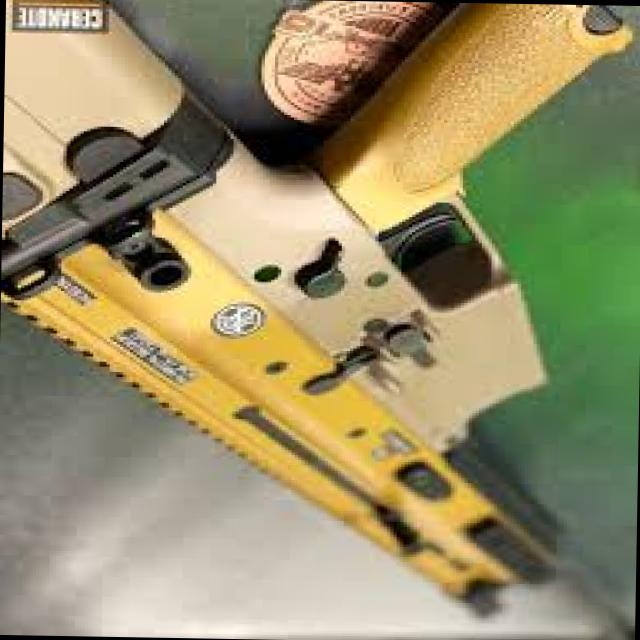Gun: (0, 0, 622, 640)
